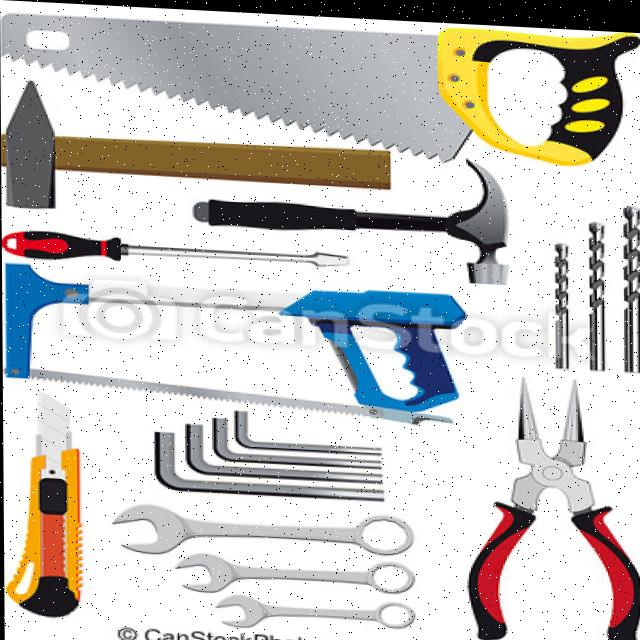Screwdriver: (1, 231, 349, 263)
